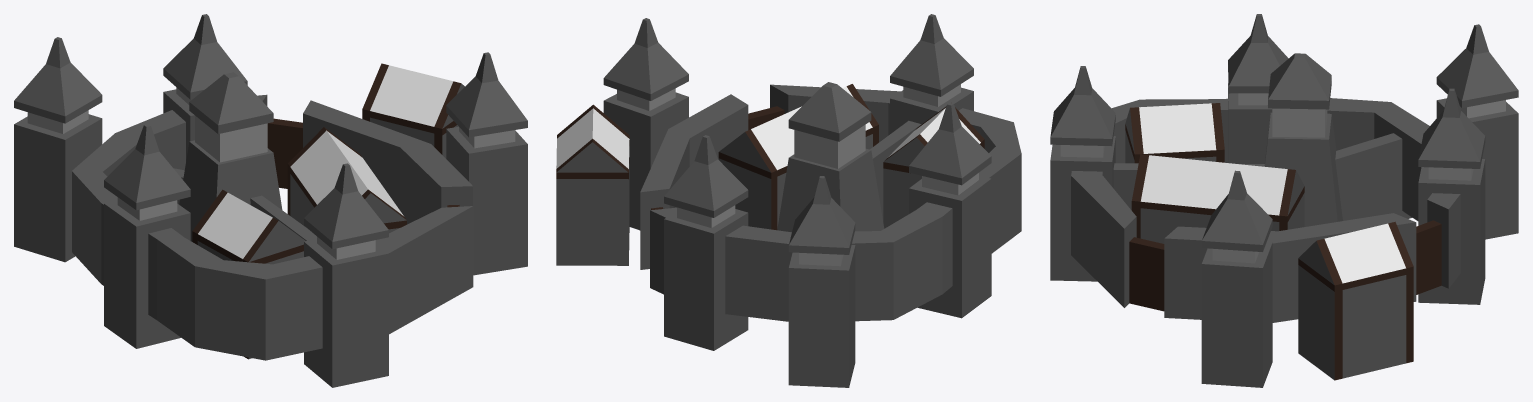
Rendered from SM_TileVillageCity.fbx.
3 renders of one model, left to right at view 1: azimuth 30°, elevation 25°; view 2: azimuth 150°, elevation 25°; view 3: azimuth 270°, elevation 25°, orthographic. The views are drawn at different scales.
Parts seen in each view (by area): view 1: TileVillageCity; view 2: TileVillageCity; view 3: TileVillageCity.
Boxes of the visible parts, x1,y1,x2,y2 form: TileVillageCity: (14,14,527,387); TileVillageCity: (556,14,1021,387); TileVillageCity: (1050,14,1518,387).
Bounding box in the file's own units: 379 × 195 × 393.
